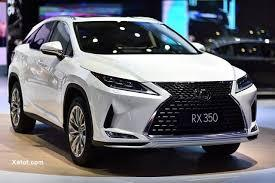lexus: (189, 86, 216, 103)
